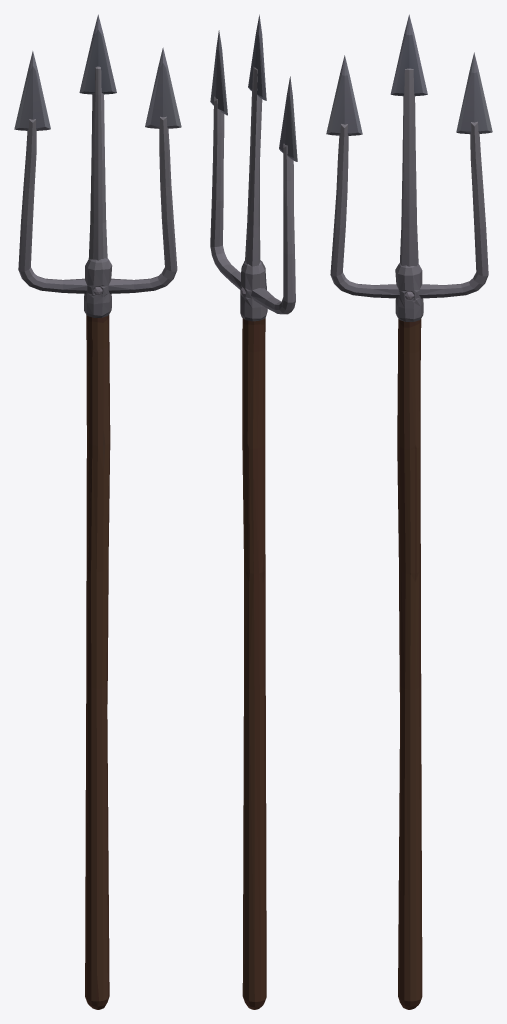
Rendered from pokeLightRetiariusTrident.glb.
3 renders of one model, left to right at view 1: azimuth 90°, elevation 25°; view 2: azimuth 210°, elevation 25°; view 3: azimuth 270°, elevation 25°, orthographic.
Parts seen in each view (by area): view 1: pokeLightRetiariusTrident; view 2: pokeLightRetiariusTrident; view 3: pokeLightRetiariusTrident.
Part boxes in pixels (x1=…): pokeLightRetiariusTrident: x1=14, y1=14, x2=181, y2=1009; pokeLightRetiariusTrident: x1=210, y1=14, x2=297, y2=1009; pokeLightRetiariusTrident: x1=326, y1=14, x2=492, y2=1009.
Size of the model in its own units: 0.0432 by 1.65 by 0.2513.
